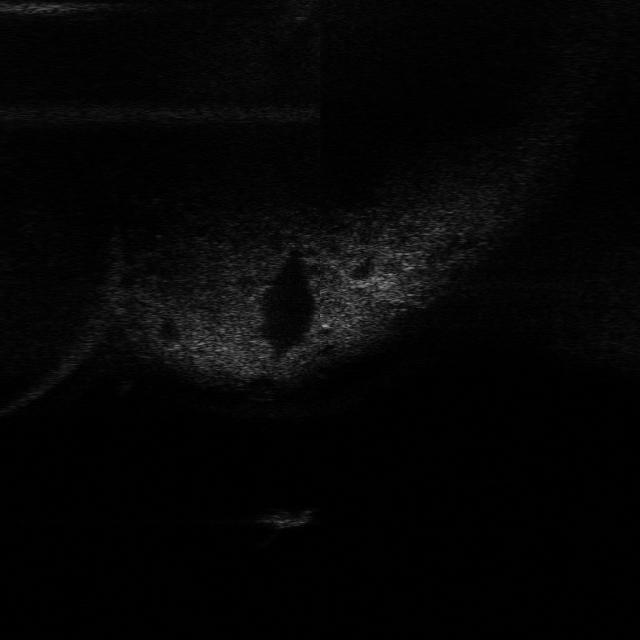cube: (256, 503, 318, 533)
